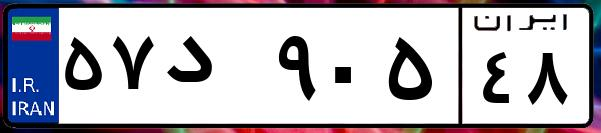0: (330, 28, 385, 110)
4: (475, 38, 525, 113)
5: (385, 28, 445, 110), (57, 26, 110, 100)
7: (110, 28, 158, 98)
8: (525, 38, 570, 115)
9: (270, 28, 330, 110)
د: (158, 20, 270, 120)
